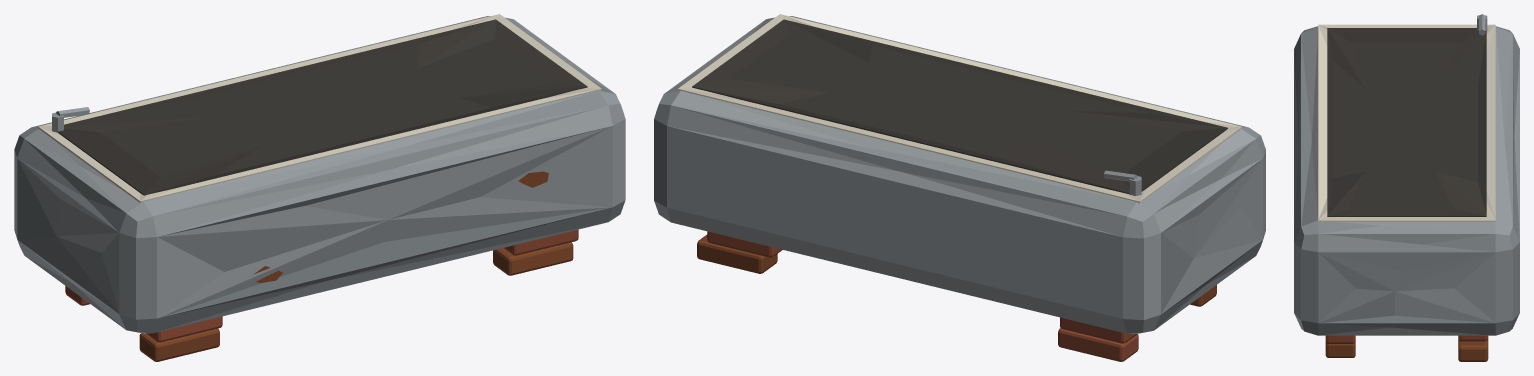
File: bathtub_emalirovannaya_idle.glb
3 renders of one model, left to right at view 1: azimuth 30°, elevation 25°; view 2: azimuth 150°, elevation 25°; view 3: azimuth 270°, elevation 25°, orthographic. The views are drawn at different scales.
Parts seen in each view (by area): view 1: bathtub_emalirovannaya_idle; view 2: bathtub_emalirovannaya_idle; view 3: bathtub_emalirovannaya_idle.
Boxes of the visible parts, left/top/right/bottom form: bathtub_emalirovannaya_idle: left=14, top=14, right=625, bottom=361; bathtub_emalirovannaya_idle: left=654, top=14, right=1265, bottom=361; bathtub_emalirovannaya_idle: left=1294, top=14, right=1519, bottom=361.
Bounding box in the file's own units: 1.68 × 0.6019 × 0.75.
Materials: 1 (1 with a texture image).
